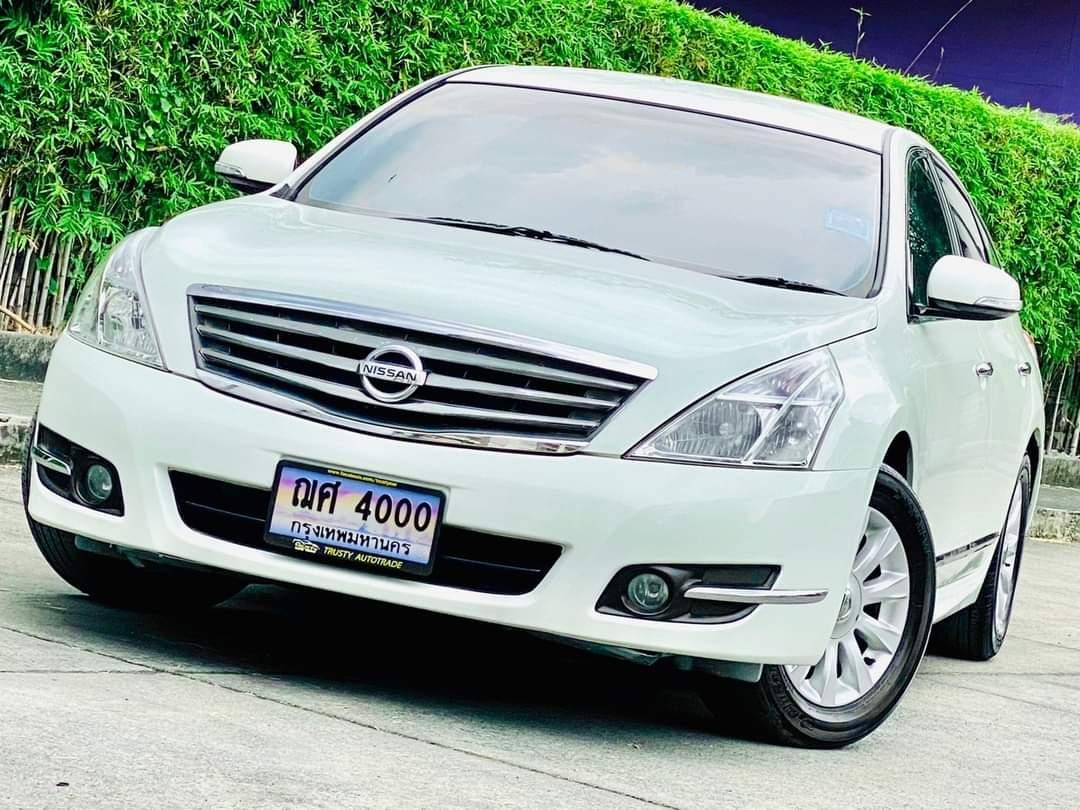license-plate: (264, 454, 447, 579)
